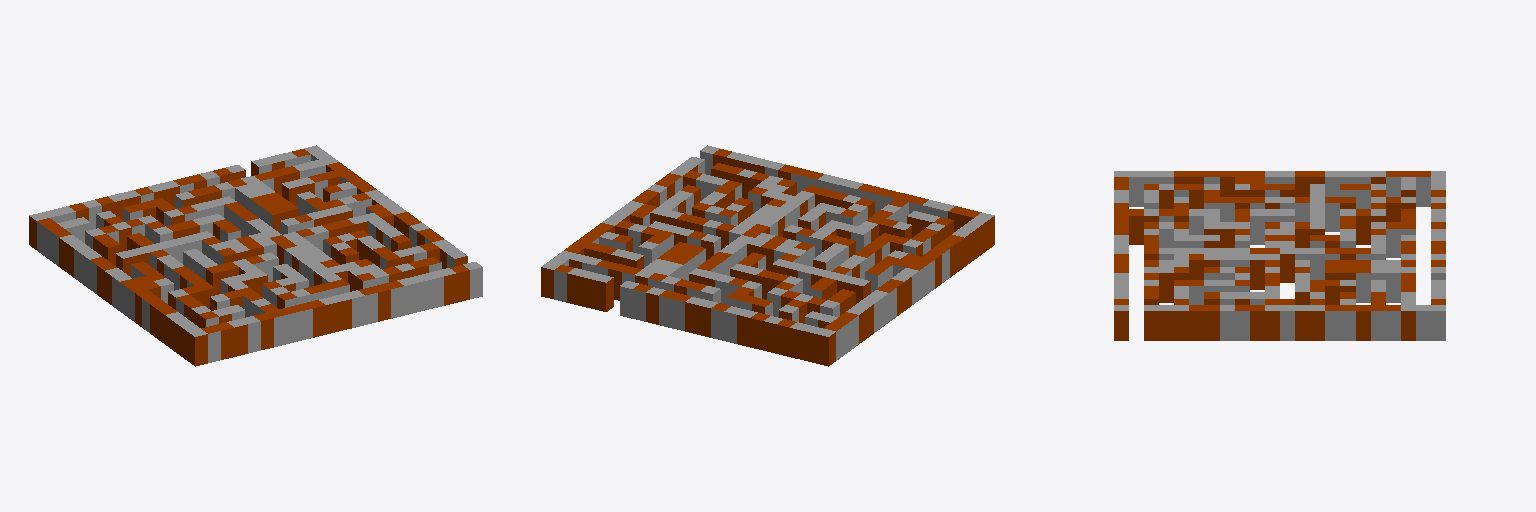
The model's file is maze.obj.
3 views of the same model, side by side, from view 1: azimuth 30°, elevation 25°; view 2: azimuth 150°, elevation 25°; view 3: azimuth 270°, elevation 25° (orthographic).
Parts seen in each view (by area): view 1: Figure_1.002; view 2: Figure_1.002; view 3: Figure_1.002.
Boxes of the visible parts, box(x1,y1,x2,y2) form: Figure_1.002: box(29, 145, 482, 366); Figure_1.002: box(541, 145, 994, 366); Figure_1.002: box(1114, 171, 1445, 340).
Bounding box in the file's own units: 9.2 × 0.9 × 9.2.